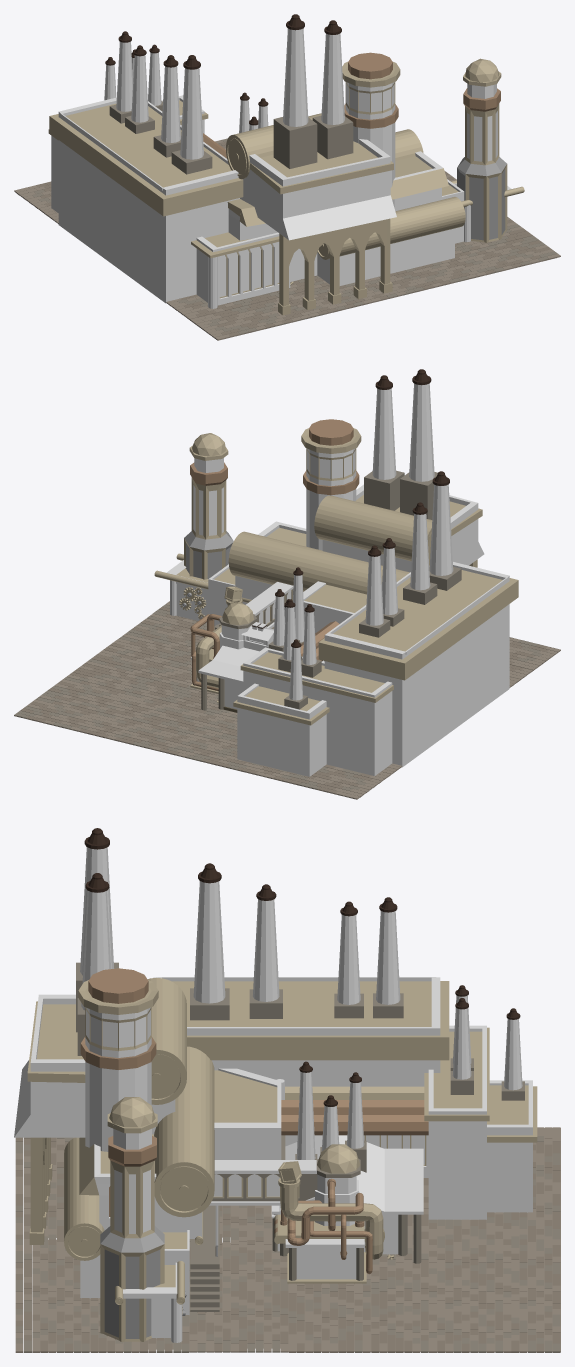
File: Cube Building I BEG.fbx
3 renders of one model, top to bottom at view 1: azimuth 30°, elevation 25°; view 2: azimuth 150°, elevation 25°; view 3: azimuth 270°, elevation 25°, orthographic. The views are drawn at different scales.
Visible parts, largest first — view 1: Cube.135, Cube.054, Cube.059, Cube.071, Cube.109, Cube.087, Cube.127, Cube.128, Cube.055, Cylinder.068, Cube.056, Cube.095 (+40 smaller); view 2: Cube.135, Cube.067, Cube.068, Cylinder.030, Cube.109, Cylinder.067, Cube.087, Cube.105, Cube.107, Cube.059, Cube.121, Cube.122 (+47 smaller); view 3: Cube.059, Cylinder.030, Cube.109, Cube.067, Cube.087, Cube.121, Cube.107, Cube.105, Cube.115, Cube.122, Cube.054, Cube.127 (+74 smaller).
Boxes of the visible parts, bbox=[...] form: Cube.135: bbox=[58, 112, 166, 303]; Cube.054: bbox=[240, 139, 390, 235]; Cube.059: bbox=[59, 97, 239, 303]; Cube.071: bbox=[278, 218, 392, 315]; Cube.109: bbox=[49, 114, 243, 216]; Cube.087: bbox=[65, 103, 231, 187]; Cube.127: bbox=[193, 242, 560, 340]; Cube.128: bbox=[213, 238, 557, 336]; Cube.055: bbox=[317, 228, 454, 285]; Cylinder.068: bbox=[317, 197, 465, 259]; Cube.056: bbox=[196, 232, 290, 305]; Cube.095: bbox=[283, 195, 396, 240]; Cube.135: bbox=[402, 575, 509, 767]; Cube.067: bbox=[243, 647, 392, 775]; Cube.068: bbox=[237, 683, 326, 776]; Cylinder.030: bbox=[228, 531, 409, 594]; Cube.109: bbox=[318, 578, 518, 680]; Cylinder.067: bbox=[314, 495, 432, 565]; Cube.087: bbox=[333, 566, 502, 651]; Cube.105: bbox=[20, 701, 372, 794]; Cube.107: bbox=[27, 695, 381, 798]; Cube.059: bbox=[324, 562, 508, 765]; Cube.121: bbox=[54, 674, 402, 779]; Cube.122: bbox=[48, 668, 237, 742]; Cube.059: bbox=[153, 977, 440, 1177]; Cylinder.030: bbox=[154, 1046, 214, 1217]; Cube.109: bbox=[187, 981, 449, 1060]; Cube.067: bbox=[428, 1025, 486, 1219]; Cube.087: bbox=[172, 981, 431, 1026]; Cube.121: bbox=[387, 1185, 486, 1352]; Cube.107: bbox=[486, 1127, 560, 1352]; Cube.105: bbox=[486, 1142, 560, 1352]; Cube.115: bbox=[189, 1205, 288, 1352]; Cube.122: bbox=[387, 1178, 486, 1352]; Cube.054: bbox=[30, 994, 175, 1137]; Cube.127: bbox=[15, 1137, 89, 1352].
Size of the model in its own units: 8443 by 6476 by 8533.
